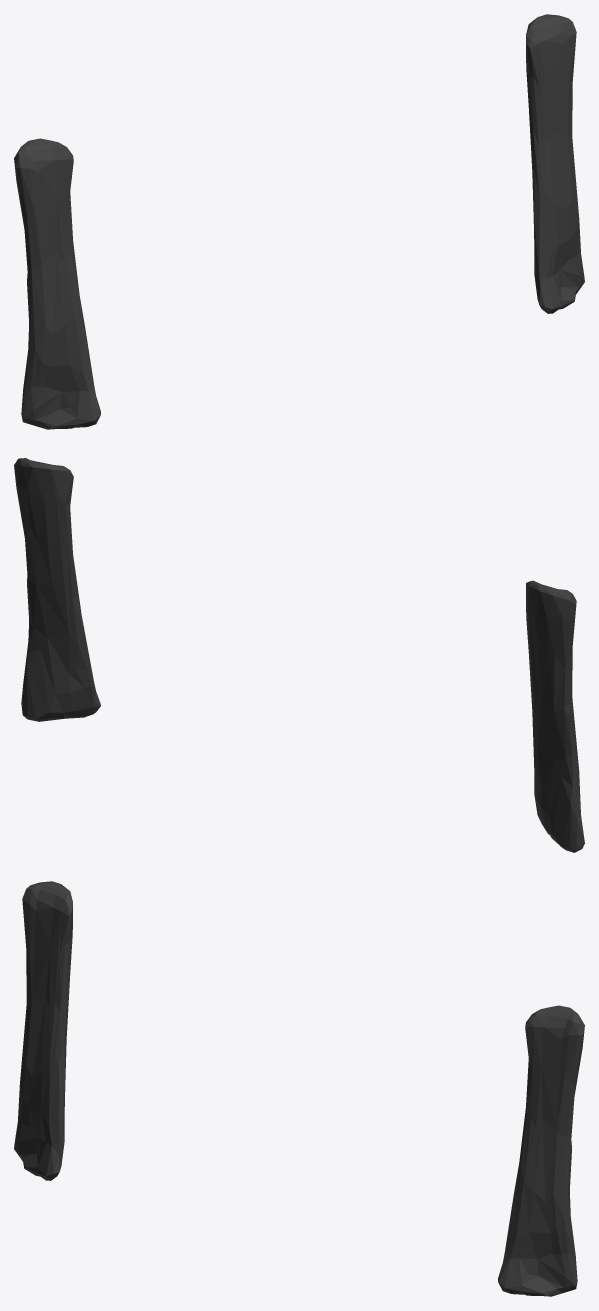
Rendered from lig_long_plantar.glb.
3 renders of one model, top to bottom at view 1: azimuth 30°, elevation 25°; view 2: azimuth 150°, elevation 25°; view 3: azimuth 330°, elevation 25°, orthographic.
Parts seen in each view (by area): view 1: lig_long_plantar; view 2: lig_long_plantar; view 3: lig_long_plantar.
Part boxes in pixels (<box>): lig_long_plantar: <box>14,14,584,429</box>; lig_long_plantar: <box>14,458,584,852</box>; lig_long_plantar: <box>14,881,584,1296</box>.
Bounding box in the file's own units: 0.00472 × 0.00219 × 0.000538.
1 material, 1 textured.
